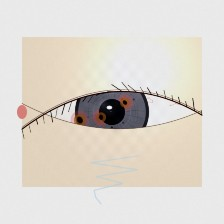foreign_body_visible: (62, 106, 98, 134)
